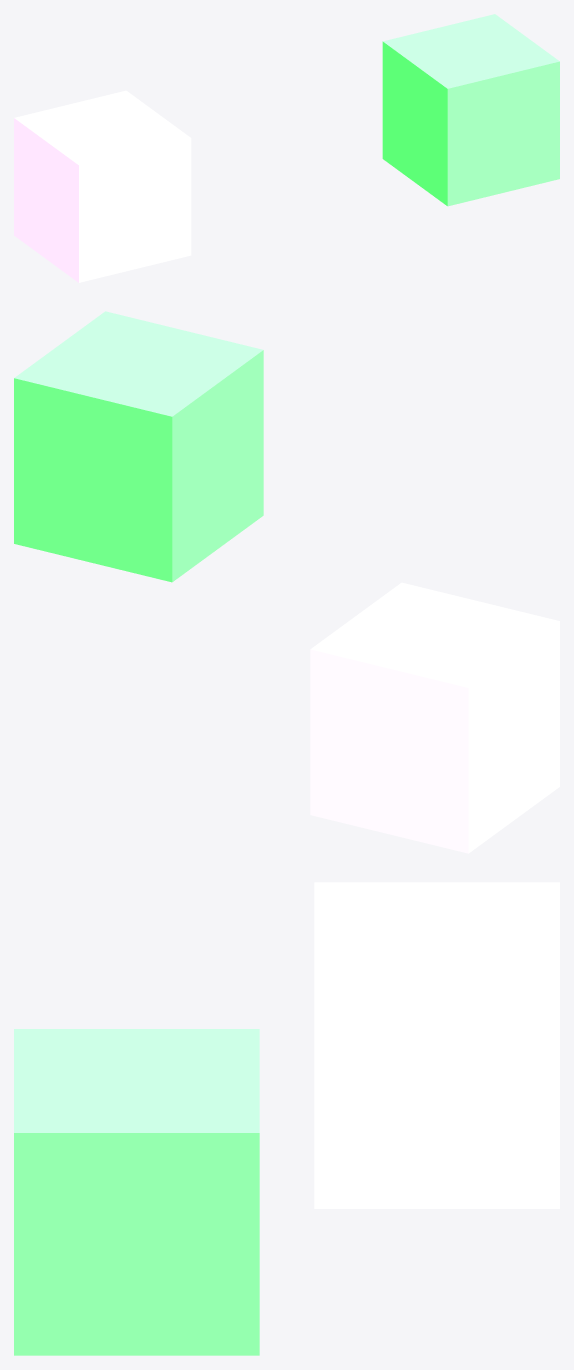
3 renders of one model, top to bottom at view 1: azimuth 30°, elevation 25°; view 2: azimuth 150°, elevation 25°; view 3: azimuth 270°, elevation 25°, orthographic. The views are drawn at different scales.
Visible parts, largest first — view 1: Cube, Cube.001; view 2: Cube, Cube.001; view 3: Cube, Cube.001.
Boxes of the visible parts, box(x1,y1,x2,y2) form: Cube: box(382, 14, 559, 206); Cube.001: box(14, 90, 191, 282); Cube: box(14, 311, 263, 582); Cube.001: box(310, 582, 559, 853); Cube: box(14, 1029, 259, 1355); Cube.001: box(314, 882, 559, 1208).
Size of the model in its own units: 7.15 by 4.44 by 3.09.
